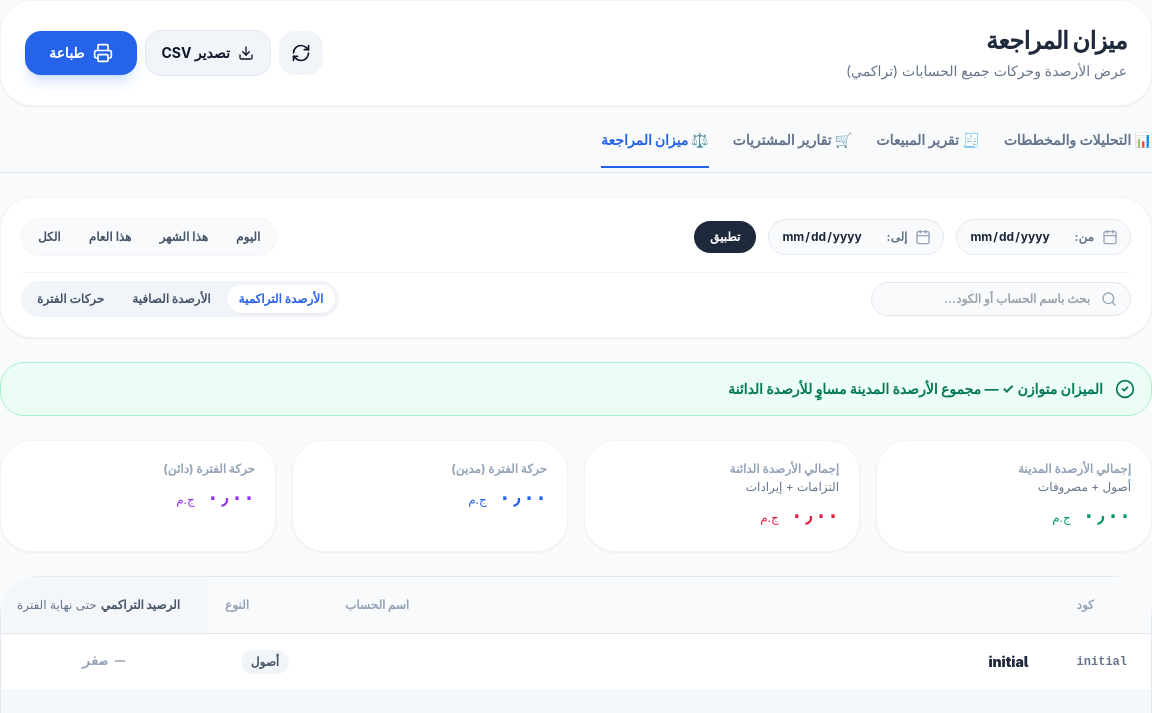
coverage gap: trial balance load errors › keeps the newest applied date result when an older request resolves afterwards
The image size is (1152, 713).
Expected: the 2nd text "initial" is shown, x1=1053 y1=634 x2=1151 y2=690
In the date field named "من تاريخ": (1018,237) x1=969 y1=228 x2=1066 y2=246, type "2026-09-01"
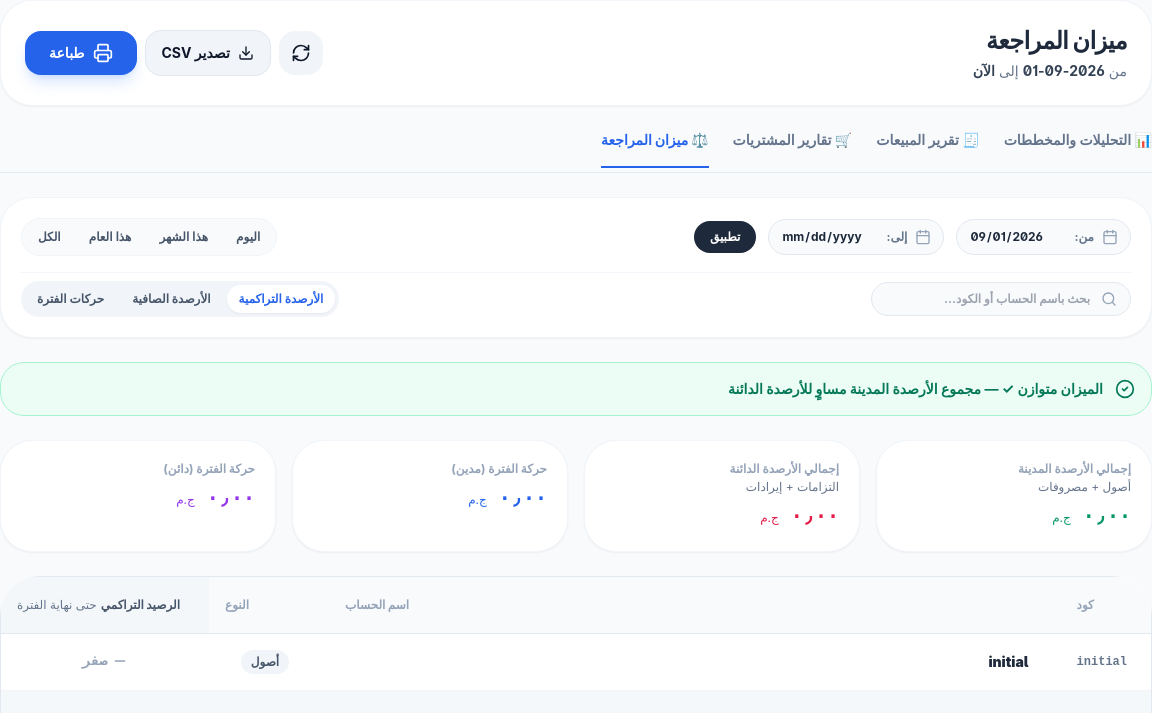
In the date field named "إلى تاريخ": (830,237) x1=781 y1=228 x2=878 y2=246, type "2026-09-10"
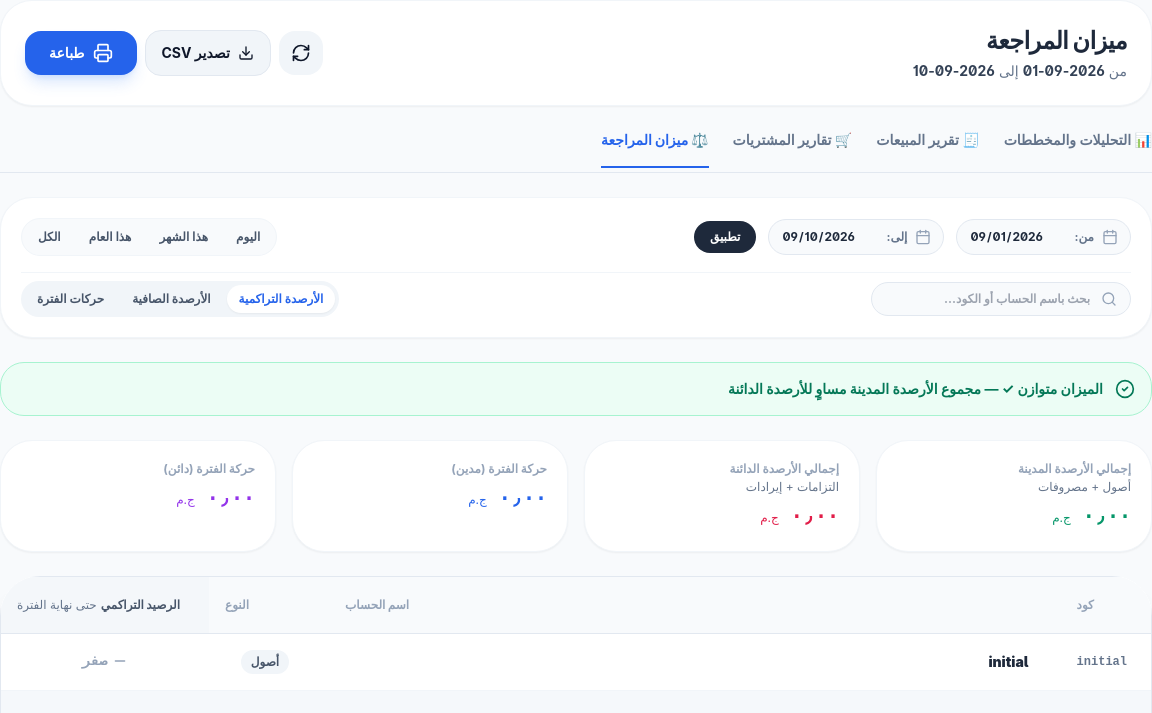
Click the button "تطبيق": (725,237) x1=694 y1=221 x2=756 y2=253
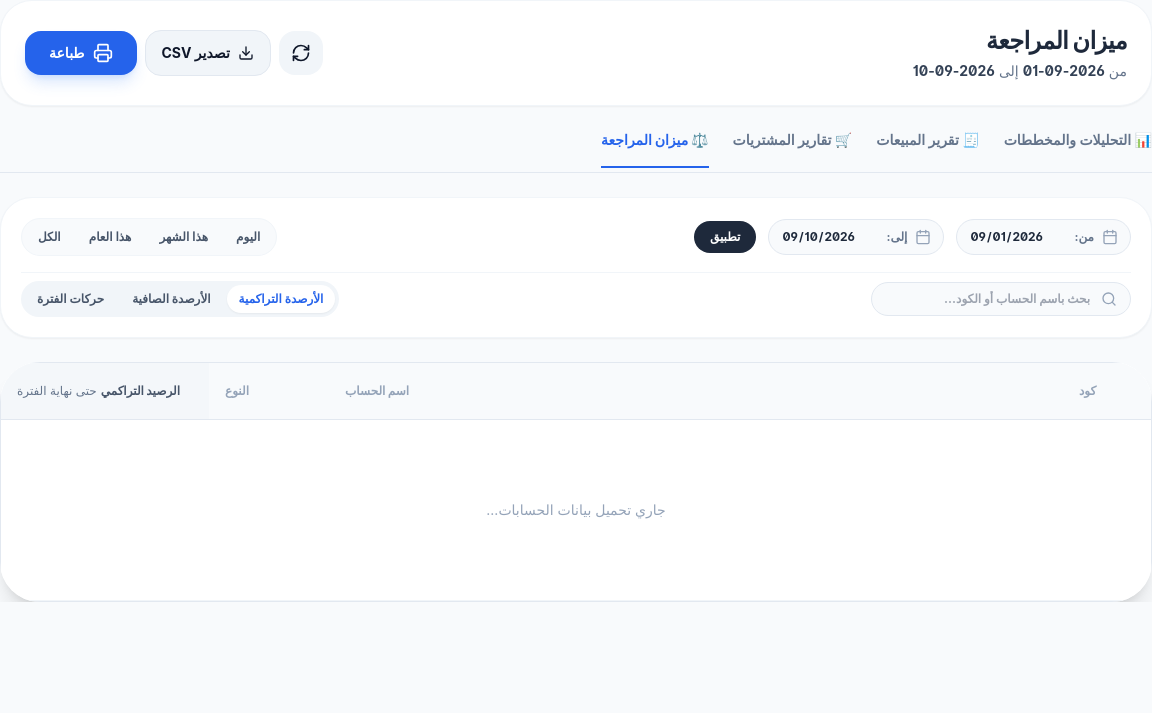
In the date field named "إلى تاريخ": (830,237) x1=781 y1=228 x2=878 y2=246, type "2026-09-22"
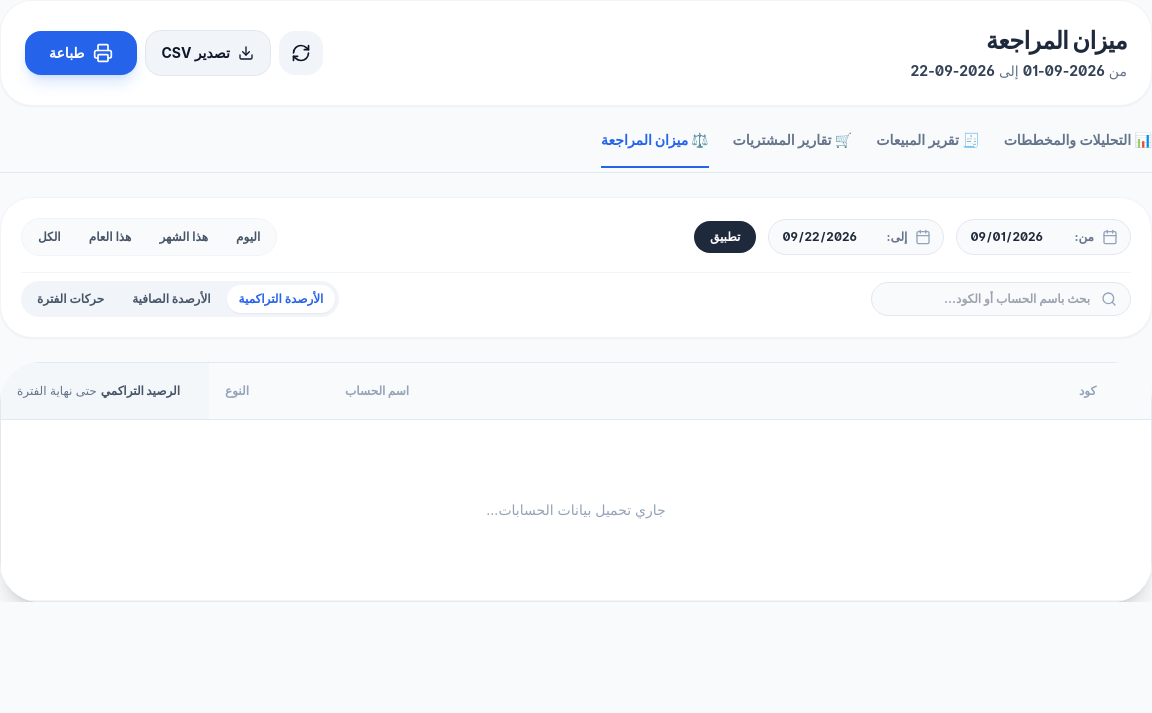
Click the button "تطبيق": (725,237) x1=694 y1=221 x2=756 y2=253
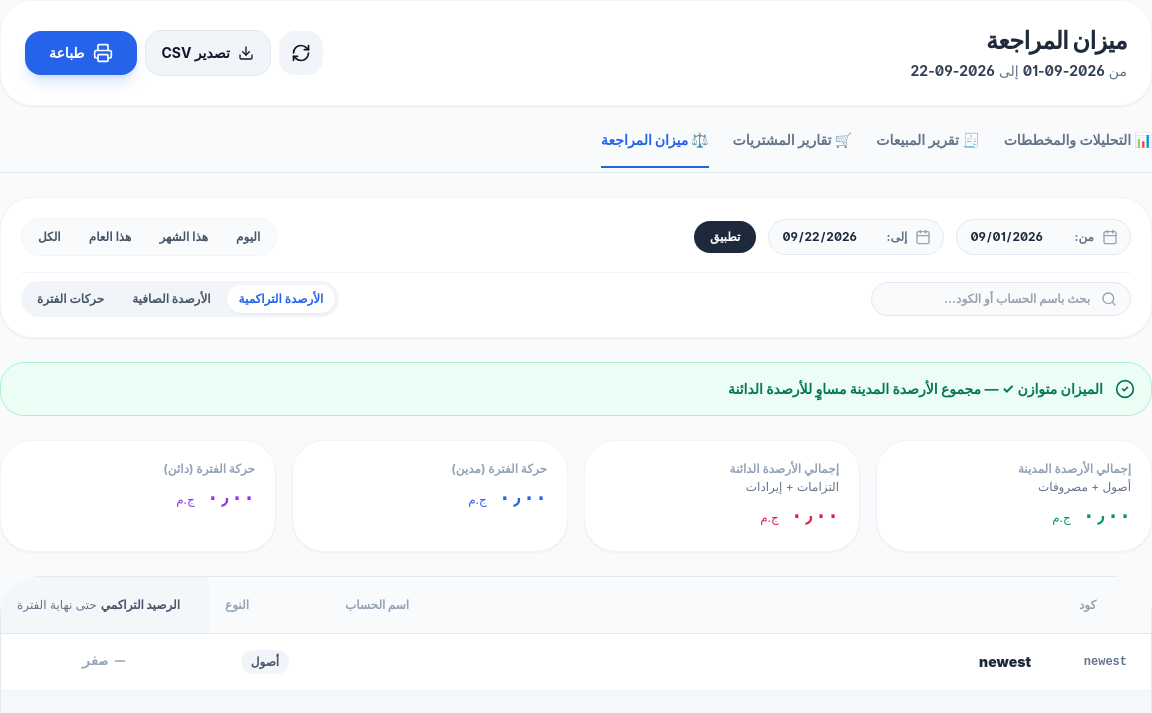
Result: the 2nd text "newest" is shown at x1=1055 y1=634 x2=1151 y2=690
